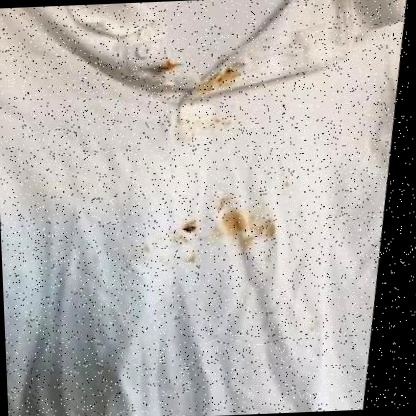coffee: (222, 209, 246, 233), (210, 71, 236, 85)
